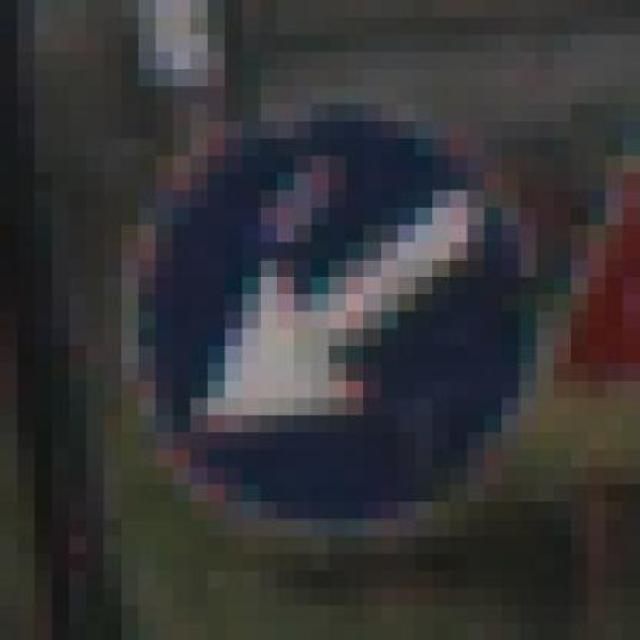Keep-Left: (103, 86, 554, 537)
